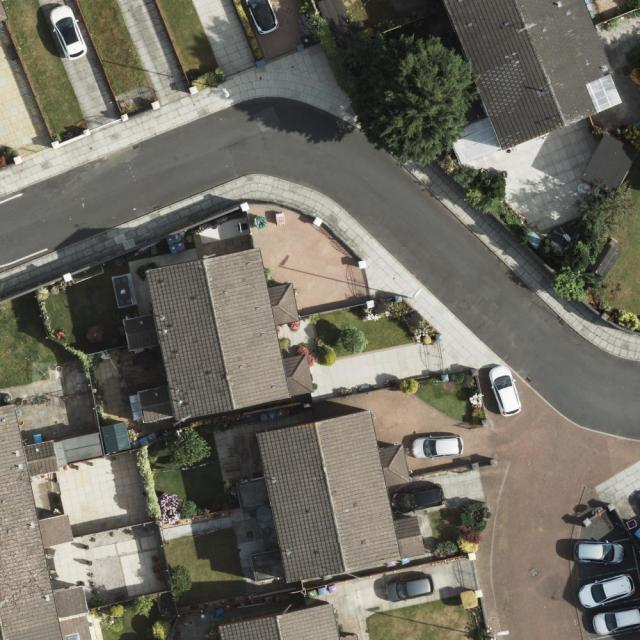roof: (126, 244, 314, 424), (238, 408, 424, 589), (442, 0, 625, 149), (0, 400, 92, 640), (219, 601, 339, 640)
skylight: (586, 74, 624, 114), (57, 630, 80, 640)
